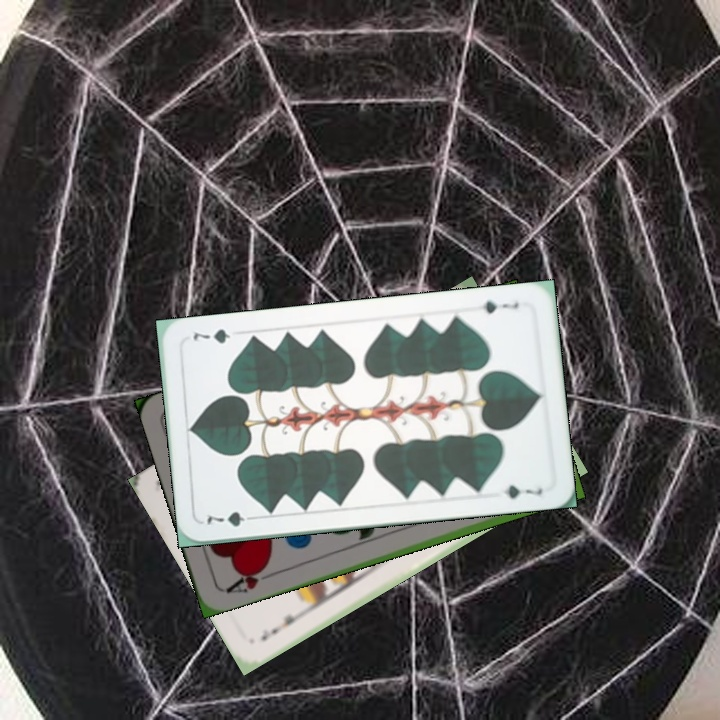E7: (256, 607, 306, 644)
G7: (202, 508, 260, 529), (478, 297, 521, 316)
HA: (222, 560, 278, 596)
